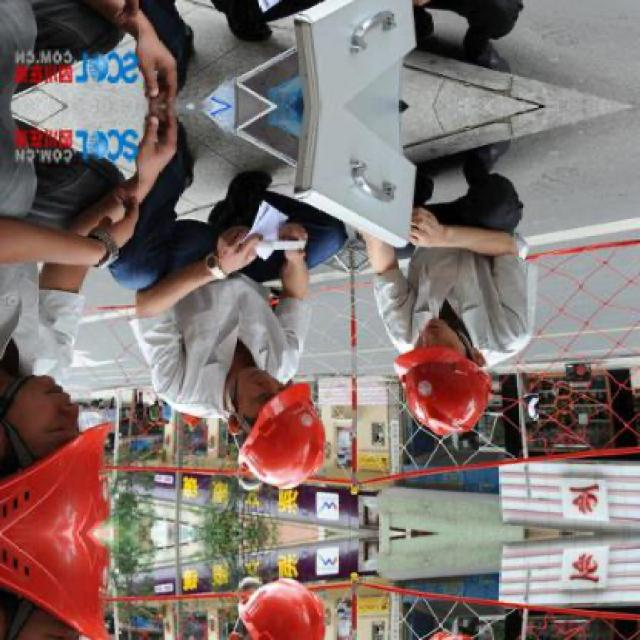con casco: (0, 404, 130, 574), (394, 338, 522, 456), (222, 376, 338, 499)
